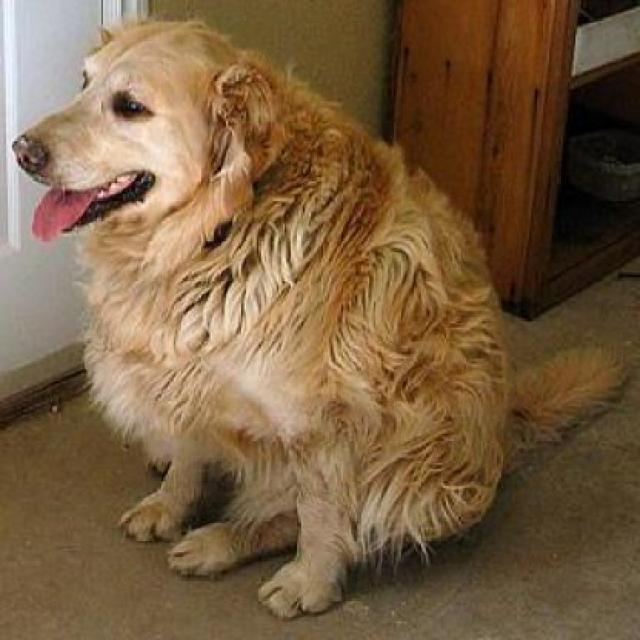Dog: (11, 12, 638, 628)
